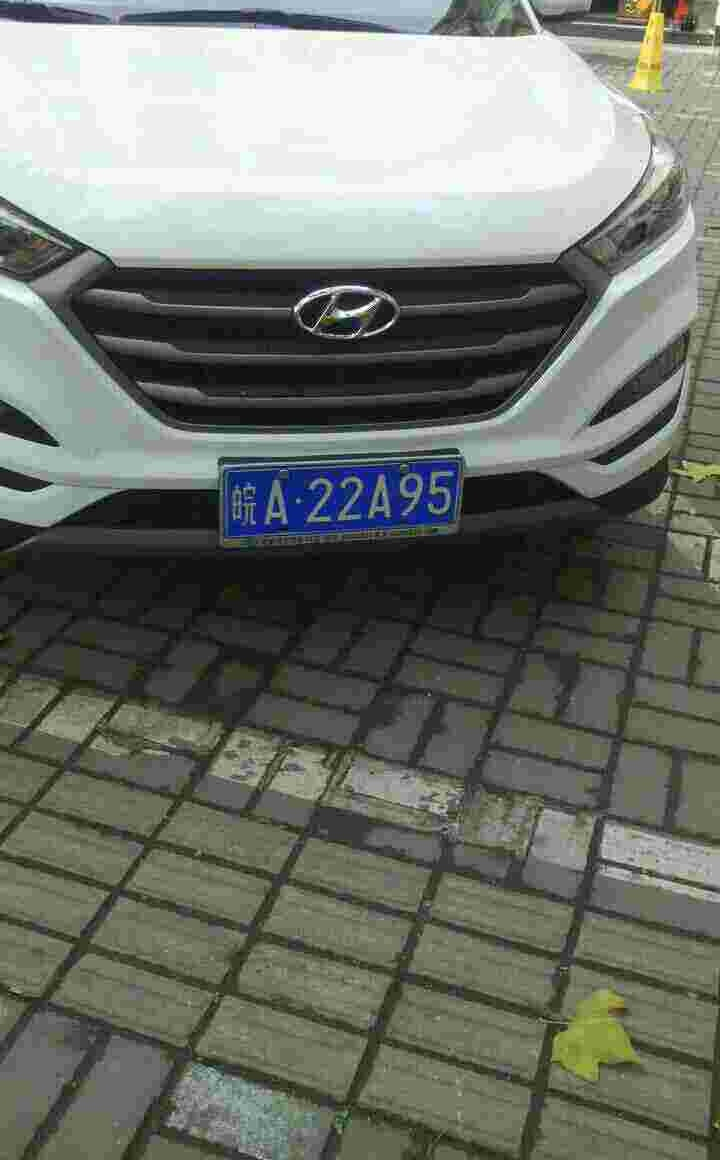plate: (226, 455, 468, 542)
